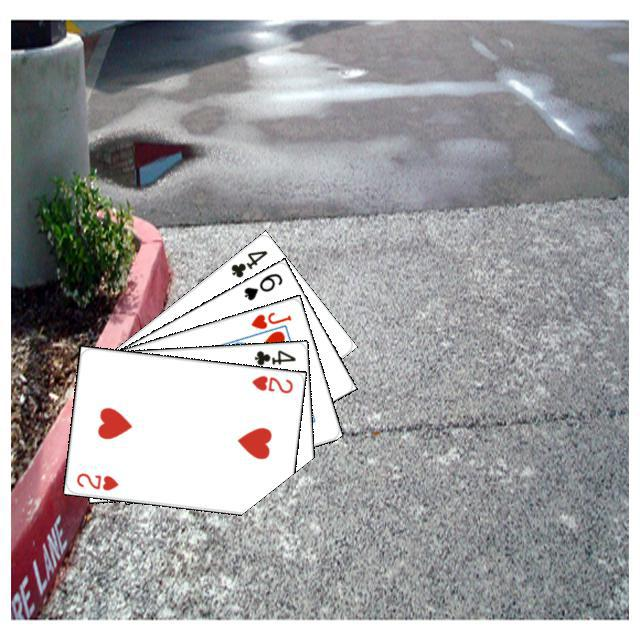2h: (247, 370, 295, 395), (71, 468, 120, 492)
4c: (226, 245, 269, 280), (249, 345, 297, 367)
6s: (239, 268, 284, 302)
Jh: (246, 307, 293, 331)
